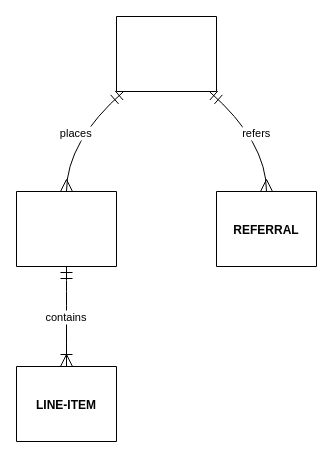
This 333x458 diagram has some shape labels left out. Each missing label, with the box of its shape:
CUSTOMER: (116, 16, 216, 92)
ORDER: (16, 190, 116, 266)
